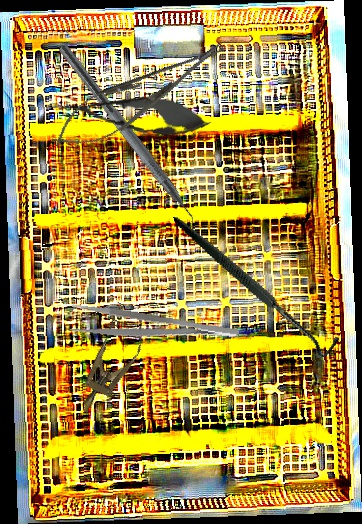Chopper: (45, 43, 210, 242)
Dressing Forceps: (68, 301, 241, 356)
Hook Surgical: (173, 177, 343, 390)
Micro Scissor: (47, 85, 213, 143)
Needle Holder: (43, 26, 236, 164)
Speculum: (65, 301, 156, 422)
